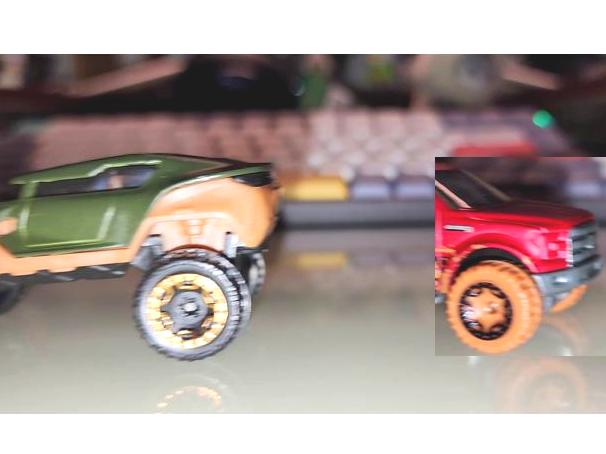toy-car: (0, 147, 286, 362), (435, 157, 606, 356)
